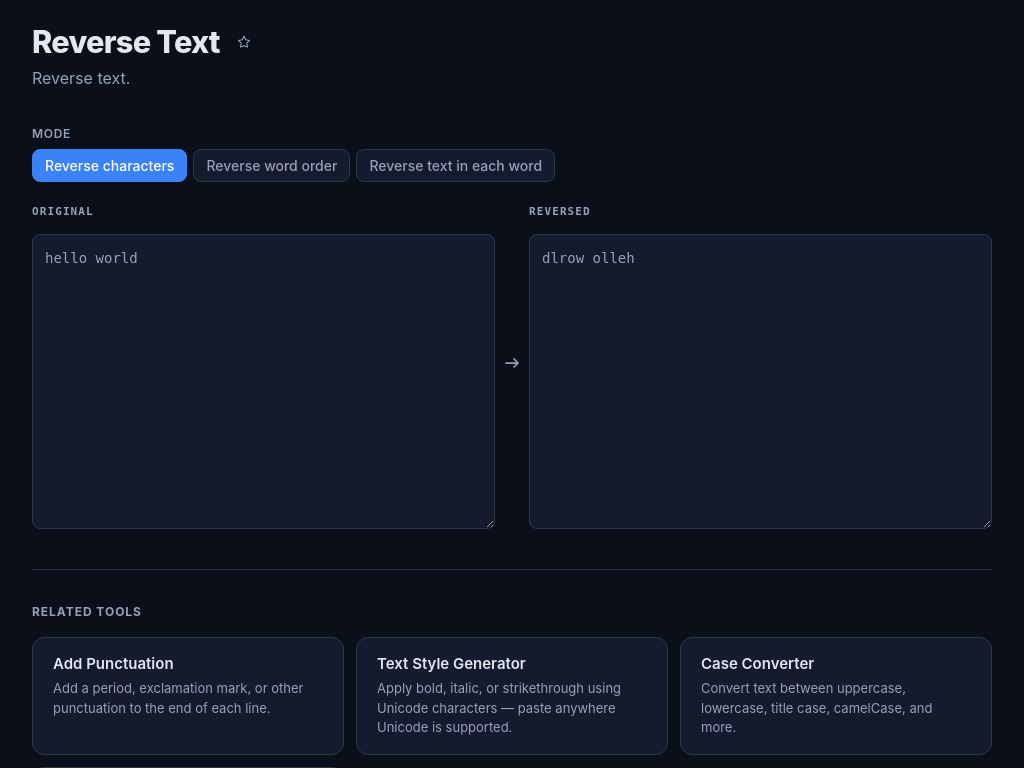
ReverseText › reverses input text
This screenshot has width=1024, height=768.
In the text box named "original": (264, 381) [32, 234, 495, 529], type "hello"
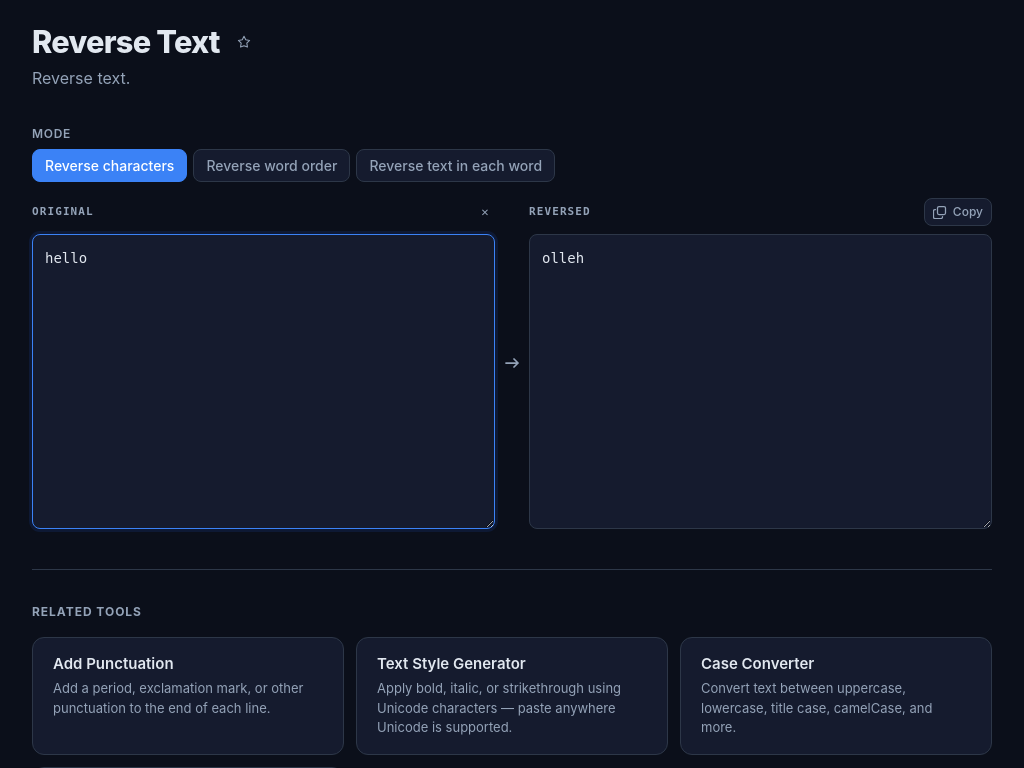
Check: the text box named "reversed" holds "olleh", box [529, 234, 992, 529]
